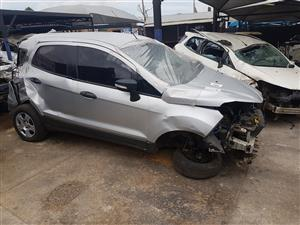Front-Windscreen-Damage: (239, 41, 295, 68)
bonnet-dent: (181, 68, 262, 107)
fender-dent: (148, 106, 221, 142)
quaterpanel-dent: (7, 63, 34, 108)
